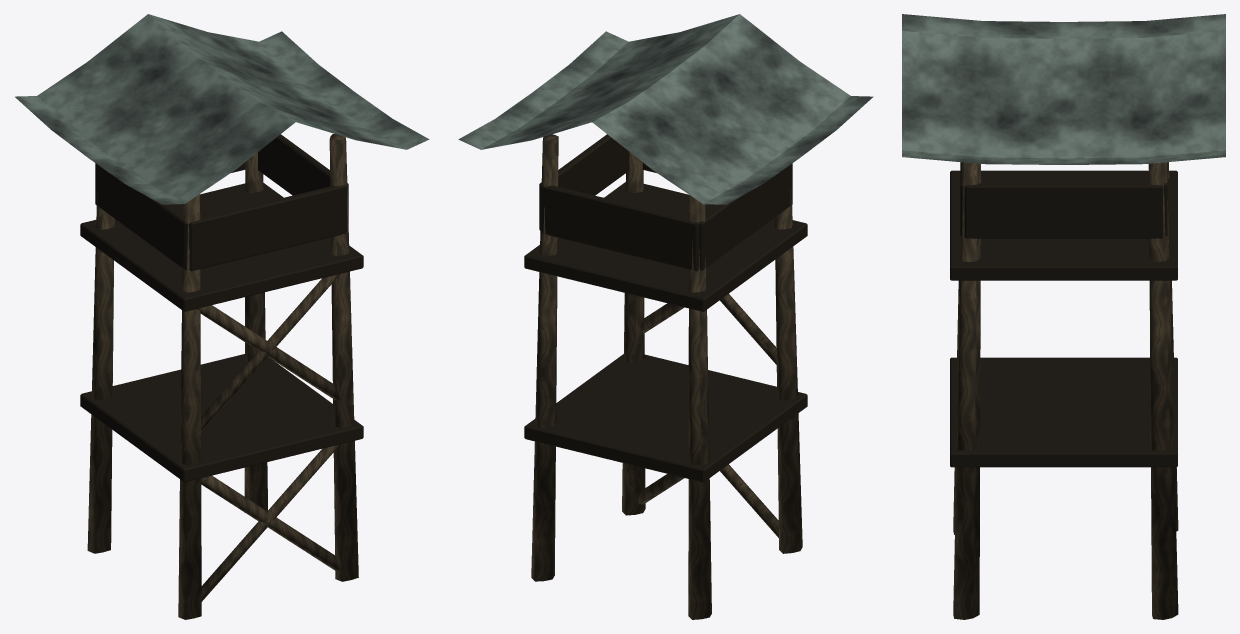
Rendered from watchtower.glb.
3 renders of one model, left to right at view 1: azimuth 30°, elevation 25°; view 2: azimuth 150°, elevation 25°; view 3: azimuth 270°, elevation 25°, orthographic. The views are drawn at different scales.
Parts seen in each view (by area): view 1: watchtower; view 2: watchtower; view 3: watchtower.
Part boxes in pixels (x1=…): watchtower: x1=15, y1=14, x2=429, y2=619; watchtower: x1=458, y1=14, x2=873, y2=619; watchtower: x1=902, y1=14, x2=1225, y2=619.
Bounding box in the file's own units: 4.6 × 8.12 × 4.4.
2 materials, 2 textured.
